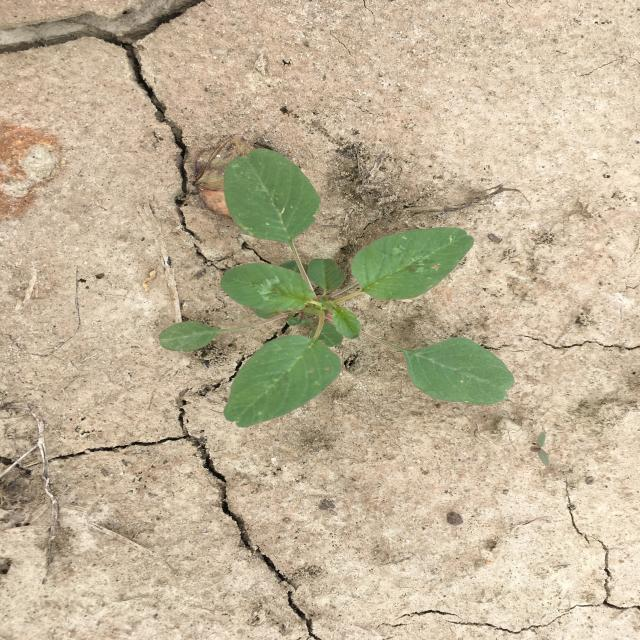PalmerAmaranth: (159, 148, 515, 428)
